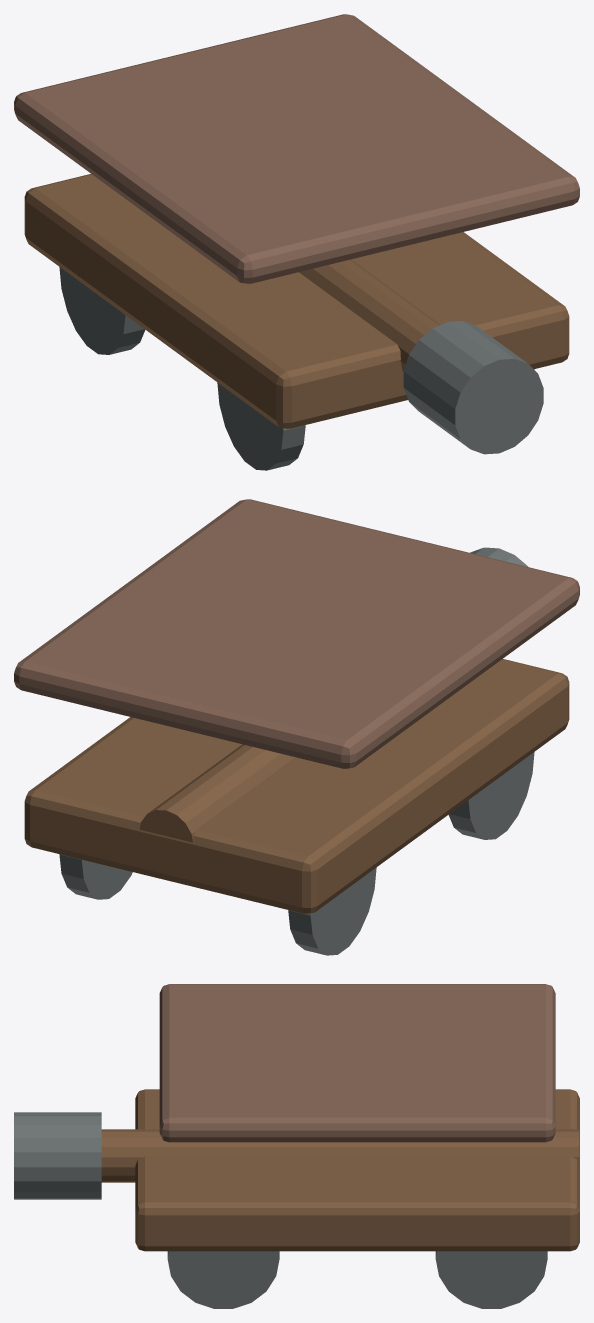
File: unit-ram.glb
3 renders of one model, top to bottom at view 1: azimuth 30°, elevation 25°; view 2: azimuth 150°, elevation 25°; view 3: azimuth 270°, elevation 25°, orthographic. The views are drawn at different scales.
Parts seen in each view (by area): view 1: protective hide roof, braced chassis, iron ram head, suspended ram, wooden wheel, wooden wheel.001; view 2: protective hide roof, braced chassis, suspended ram, wooden wheel.001, wooden wheel, wooden wheel.003; view 3: protective hide roof, braced chassis, suspended ram, iron ram head, wooden wheel.002, wooden wheel.003.
Boxes of the visible parts, x1,y1,x2,y2 form: protective hide roof: [14, 14, 579, 283]; braced chassis: [24, 174, 569, 428]; iron ram head: [403, 321, 543, 454]; suspended ram: [299, 259, 440, 371]; wooden wheel: [217, 382, 305, 470]; wooden wheel.001: [59, 267, 145, 354]; protective hide roof: [14, 499, 579, 768]; braced chassis: [24, 659, 569, 913]; suspended ram: [139, 744, 294, 842]; wooden wheel.001: [288, 867, 376, 955]; wooden wheel: [448, 752, 534, 839]; wooden wheel.003: [59, 854, 132, 899]; protective hide roof: [159, 984, 555, 1142]; braced chassis: [135, 1089, 579, 1251]; suspended ram: [101, 1129, 579, 1182]; iron ram head: [14, 1112, 101, 1199]; wooden wheel.002: [167, 1251, 279, 1308]; wooden wheel.003: [435, 1251, 547, 1308].
Bounding box in the file's own units: 2.75 × 1.86 × 4.65.
